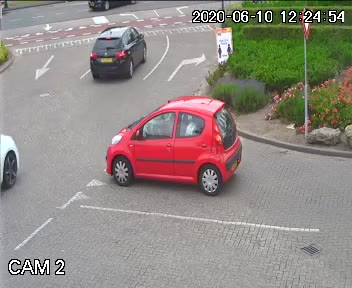car: (99, 88, 246, 198), (89, 18, 158, 92)
